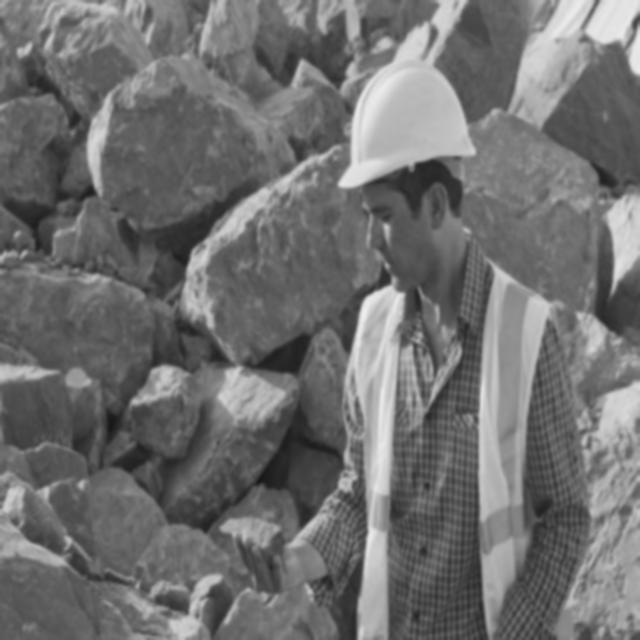head: (329, 40, 490, 312)
